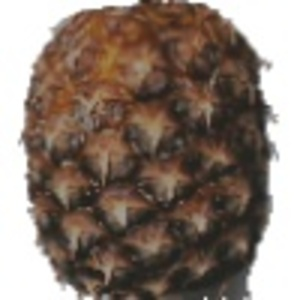abacaxi: (20, 2, 279, 298)
